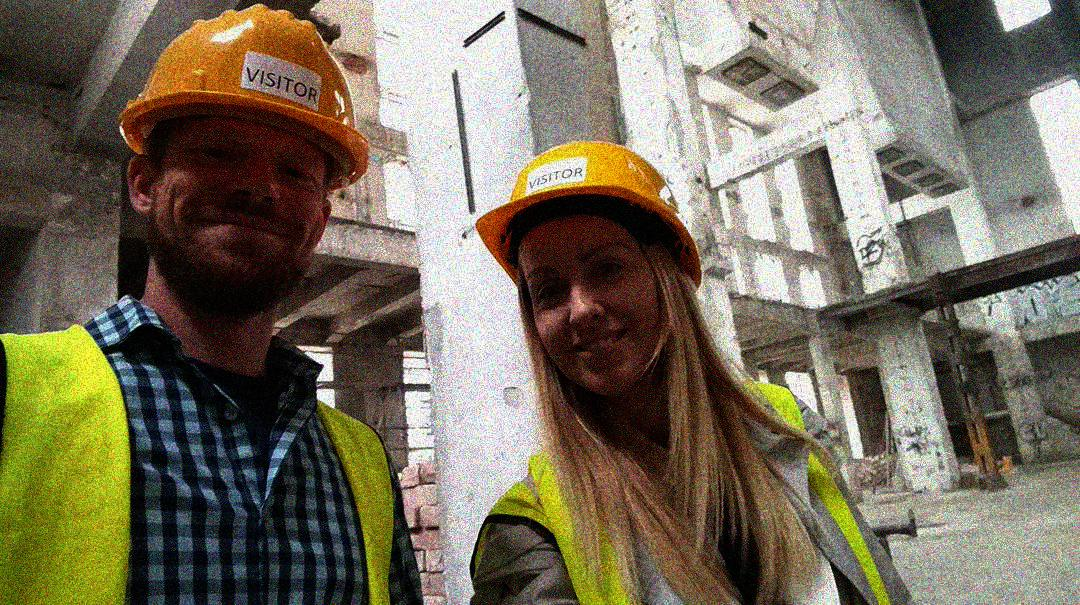helmet: (118, 6, 371, 301), (470, 143, 700, 392)
